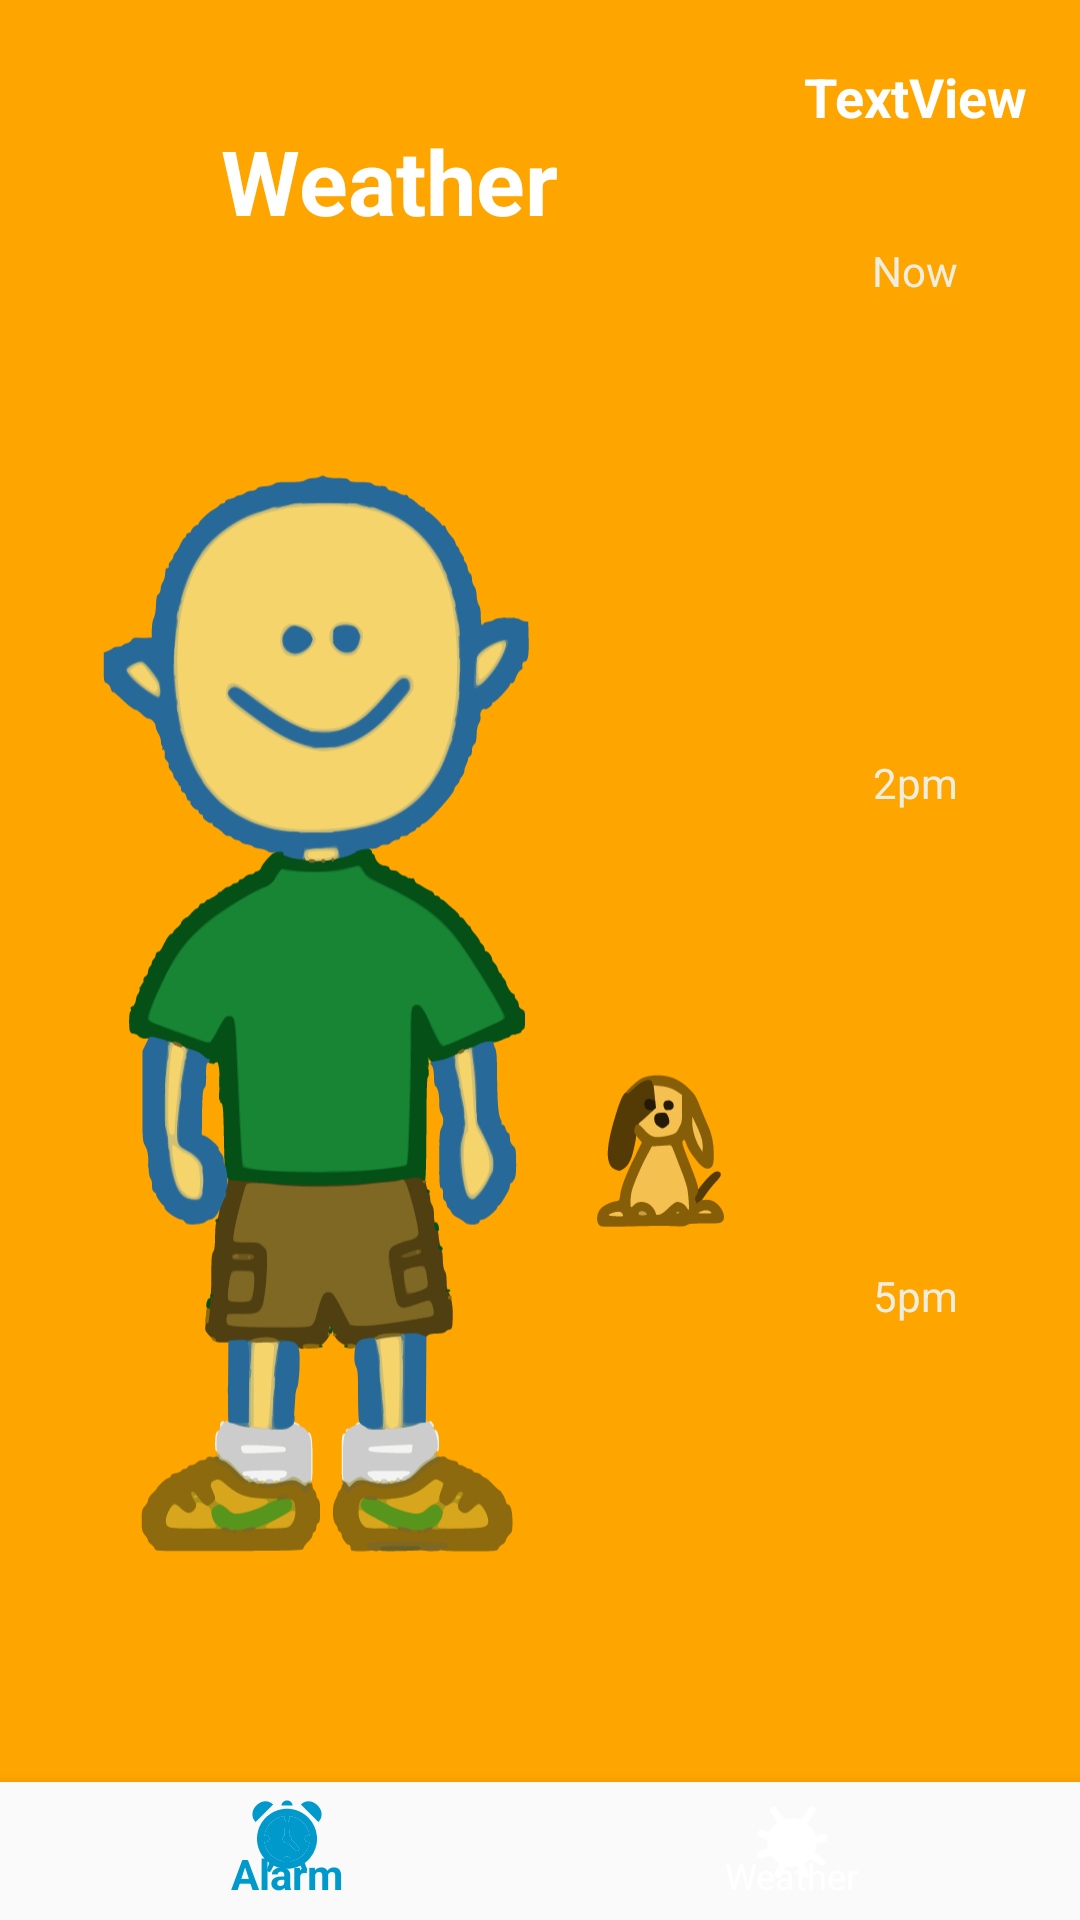

Named icons in this screenshot (1080x1920) and their centers, [x,y]:
dog: [660,1151]
